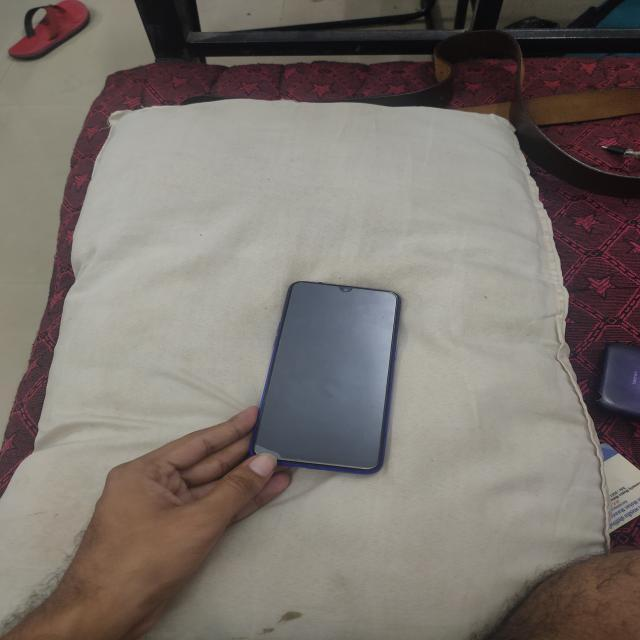Phone: (248, 277, 406, 478)
